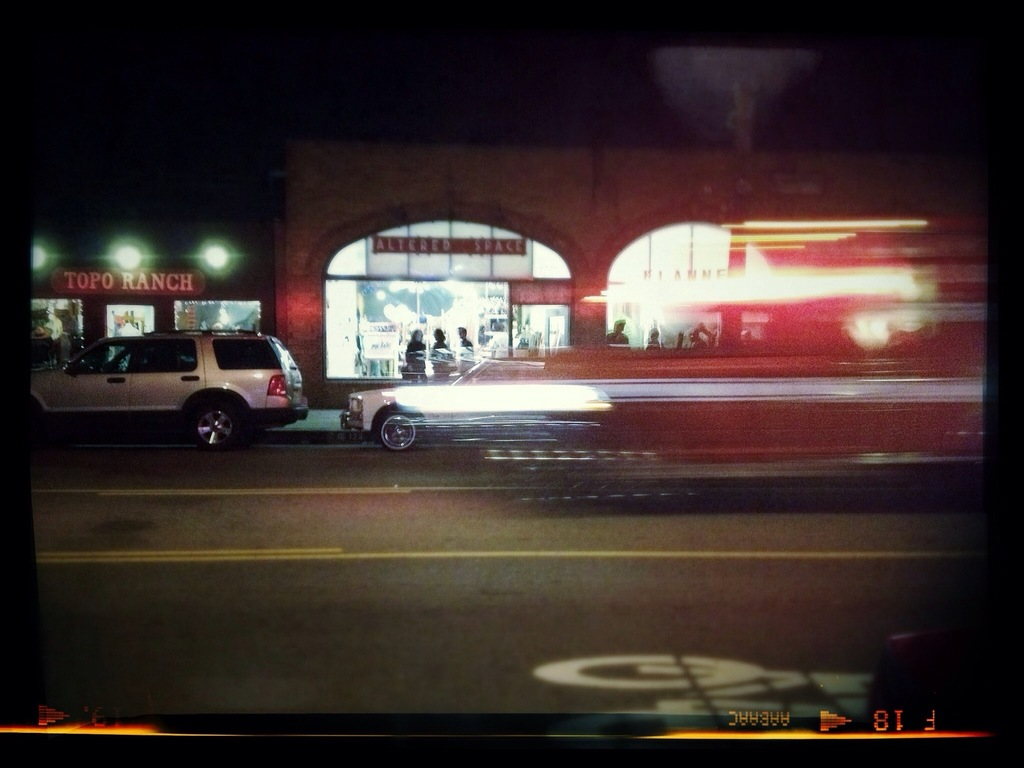cars: (26, 325, 306, 449), (340, 361, 544, 453)
